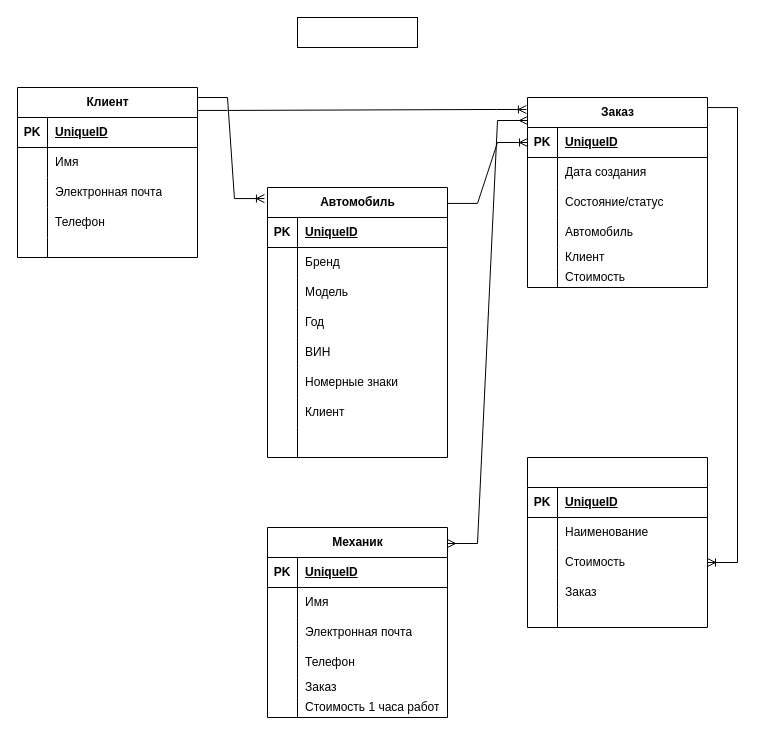
This 763x735 diagram has some shape labels left out. The shapes that lost their labels are listed below. From the top down, each one's box as (x1, y1, x2, y2) in pixels, then its label:
(296, 16, 418, 48): автосервис
(526, 456, 708, 628): Запасные части/детали
